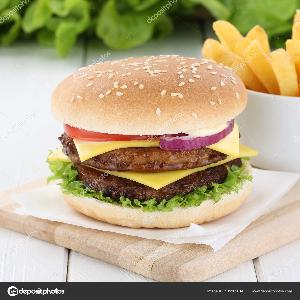cheeseburger_475cal: (46, 50, 253, 225)
